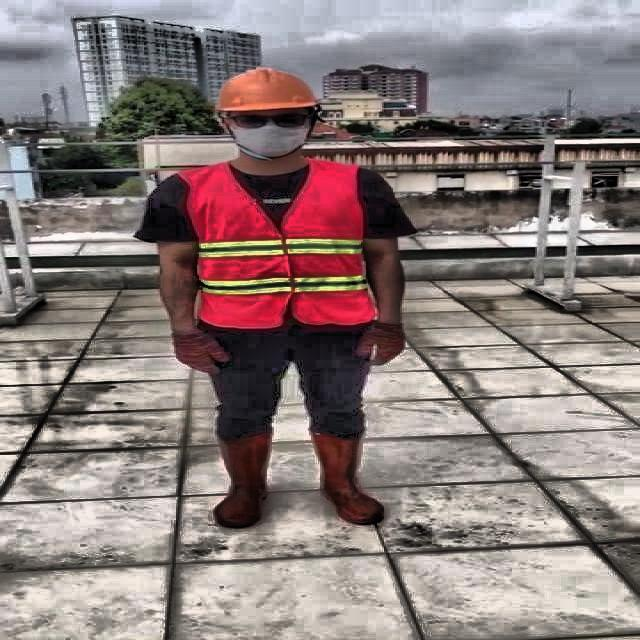safety_helmet: (210, 68, 318, 114)
safety_jacket: (183, 162, 375, 328)
